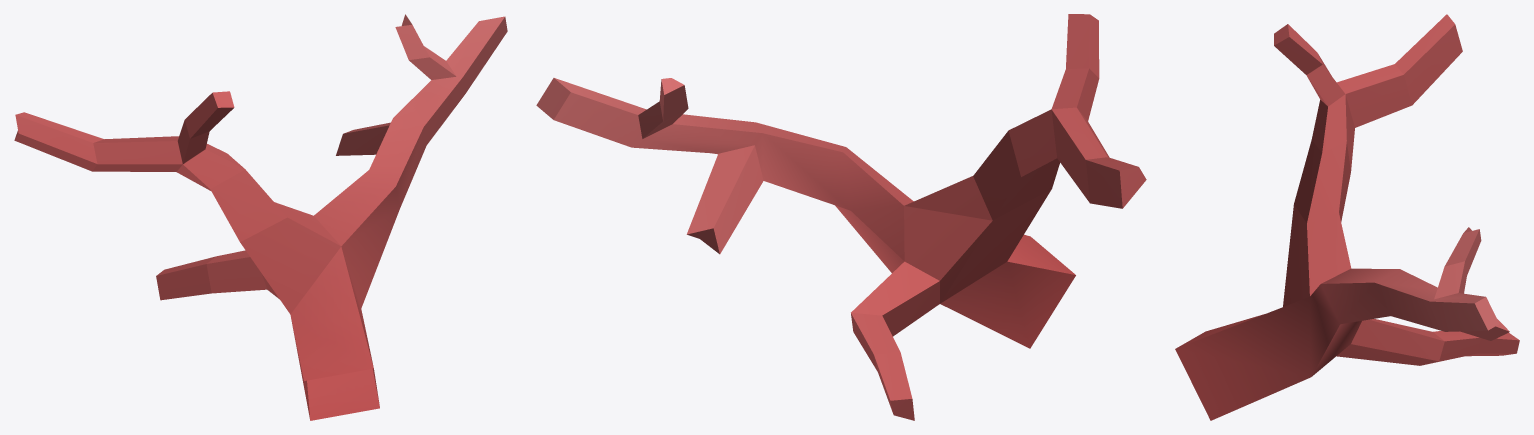
File: Coral_06.FBX
3 views of the same model, side by side, from view 1: azimuth 30°, elevation 25°; view 2: azimuth 150°, elevation 25°; view 3: azimuth 270°, elevation 25° (orthographic). The views are drawn at different scales.
Visible parts, largest first — view 1: Coral_06; view 2: Coral_06; view 3: Coral_06.
Boxes of the visible parts, x1,y1,x2,y2 form: Coral_06: (14, 14, 507, 420); Coral_06: (536, 14, 1146, 420); Coral_06: (1175, 14, 1519, 420).
Size of the model in its own units: 4.63 by 2.84 by 2.6.
